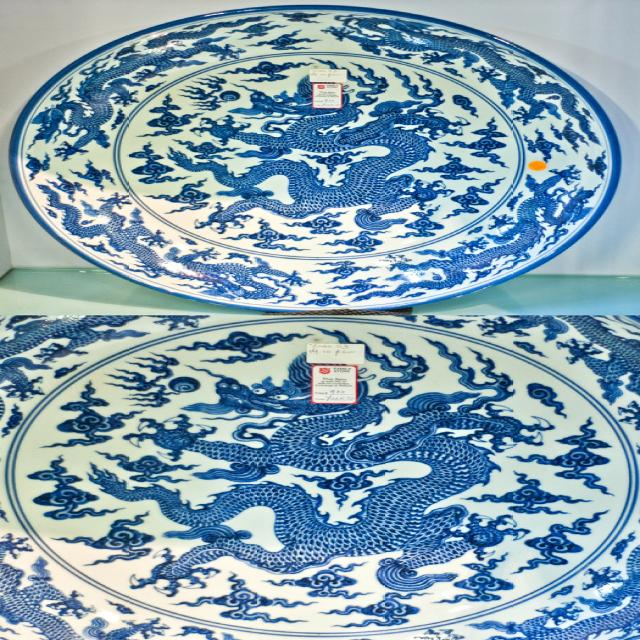non-organic waste: (0, 315, 640, 640), (1, 1, 629, 314)
